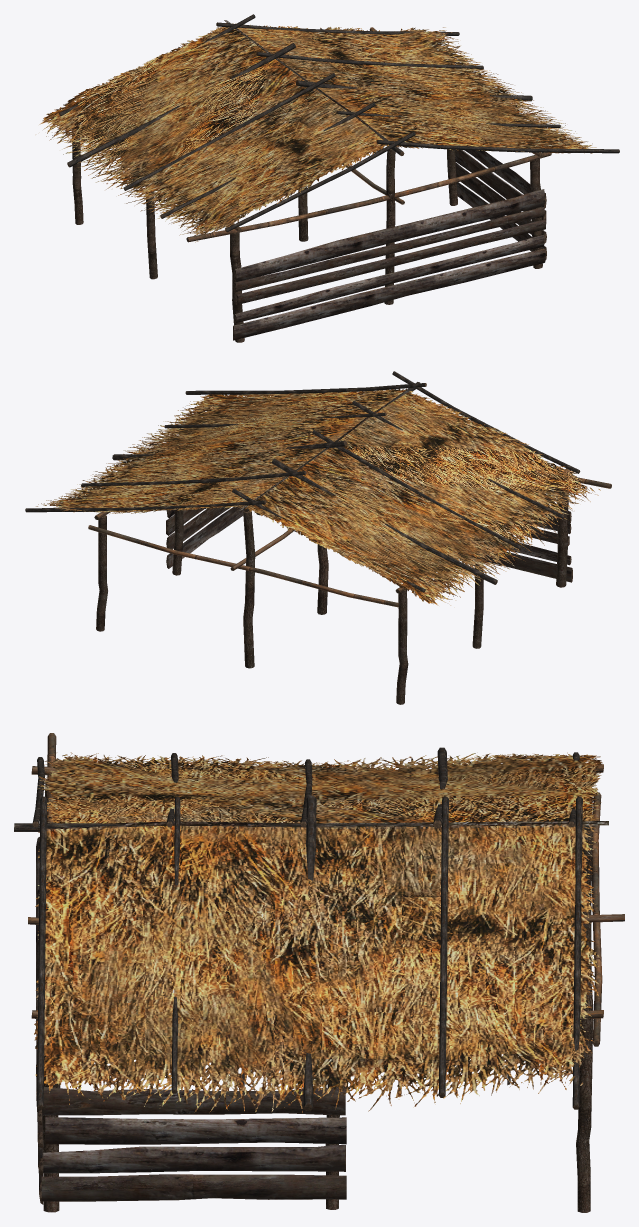
File: House 05.FBX
3 renders of one model, top to bottom at view 1: azimuth 30°, elevation 25°; view 2: azimuth 150°, elevation 25°; view 3: azimuth 270°, elevation 25°, orthographic. The views are drawn at different scales.
Visible parts, largest first — view 1: House 06; view 2: House 06; view 3: House 06.
Boxes of the visible parts, box(x1,y1,x2,y2) form: House 06: box(39, 14, 619, 342); House 06: box(25, 371, 611, 704); House 06: box(14, 733, 624, 1212).
Bounding box in the file's own units: 55.32 × 20.62 × 40.08.
